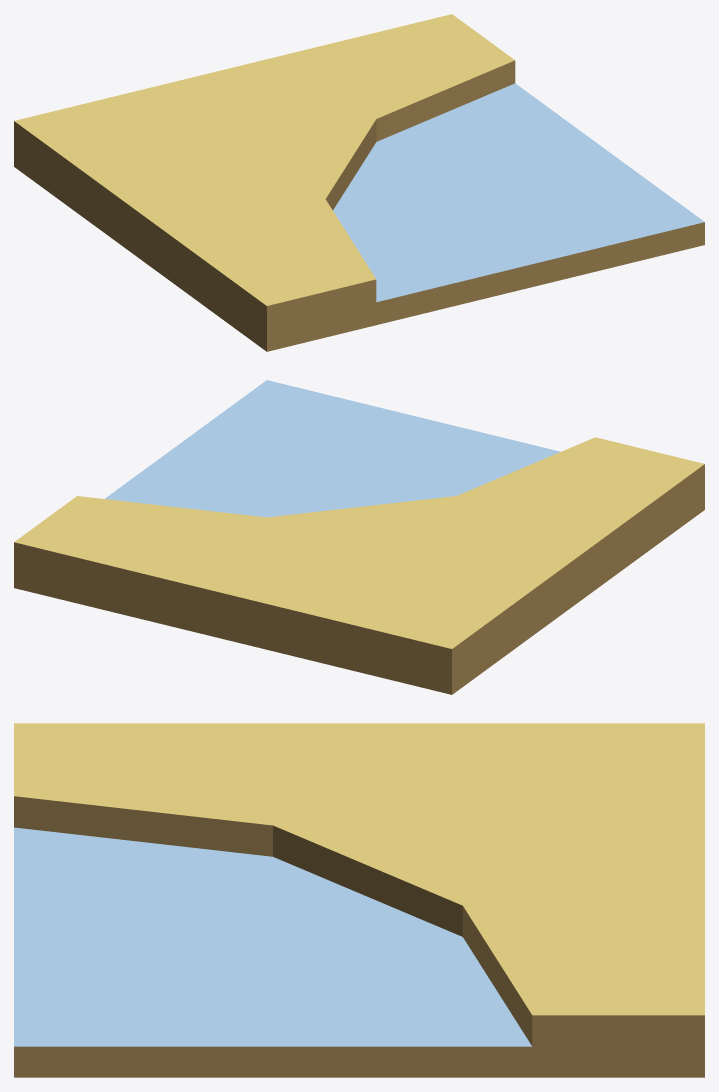
Rendered from Terrain_Modular_Tiles_Sand_Dirt_Water_Edge_Corner_Outer_01.fbx.
The picture shows the model from 3 angles, top to bottom: view 1: azimuth 30°, elevation 25°; view 2: azimuth 150°, elevation 25°; view 3: azimuth 270°, elevation 25°; orthographic projection. The views are drawn at different scales.
Visible parts, largest first — view 1: Terrain_Modular_Tiles_Sand_Dirt_Water_Edge_Corner_Outer_01; view 2: Terrain_Modular_Tiles_Sand_Dirt_Water_Edge_Corner_Outer_01; view 3: Terrain_Modular_Tiles_Sand_Dirt_Water_Edge_Corner_Outer_01.
Part boxes in pixels (x1=…): Terrain_Modular_Tiles_Sand_Dirt_Water_Edge_Corner_Outer_01: x1=14, y1=14, x2=704, y2=351; Terrain_Modular_Tiles_Sand_Dirt_Water_Edge_Corner_Outer_01: x1=14, y1=380, x2=704, y2=694; Terrain_Modular_Tiles_Sand_Dirt_Water_Edge_Corner_Outer_01: x1=14, y1=723, x2=704, y2=1077.
Size of the model in its own units: 3000 by 300 by 3000.
